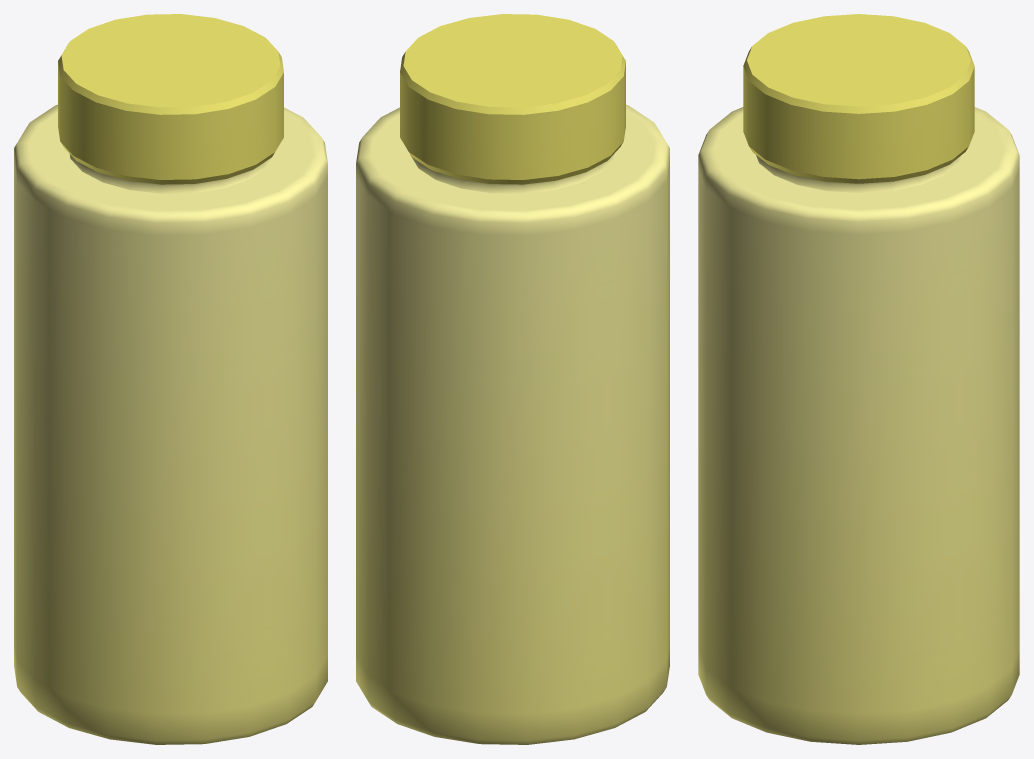
Rendered from bottle_flat_cream.fbx.
3 views of the same model, side by side, from view 1: azimuth 30°, elevation 25°; view 2: azimuth 150°, elevation 25°; view 3: azimuth 270°, elevation 25° (orthographic).
Parts seen in each view (by area): view 1: bottle_flat_cream; view 2: bottle_flat_cream; view 3: bottle_flat_cream.
Boxes of the visible parts, box(x1,y1,x2,y2) form: bottle_flat_cream: box(14, 14, 327, 744); bottle_flat_cream: box(356, 14, 669, 744); bottle_flat_cream: box(698, 14, 1019, 744).
Bounding box in the file's own units: 107 × 234 × 110.
